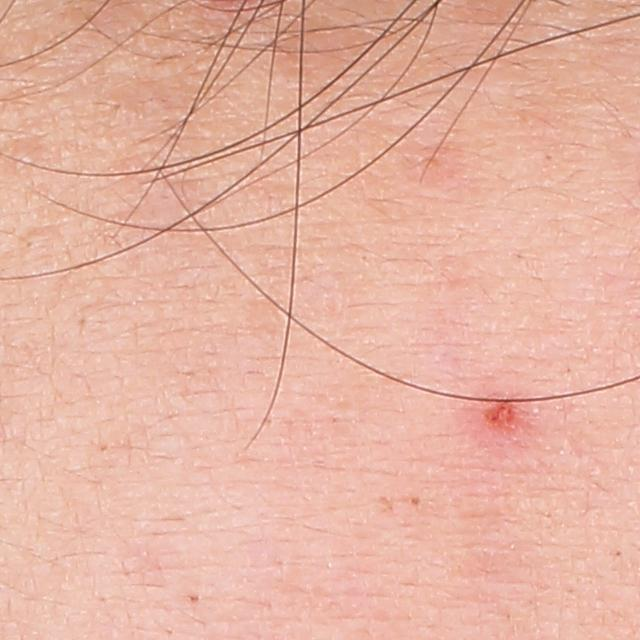comedo: (185, 592, 204, 608)
